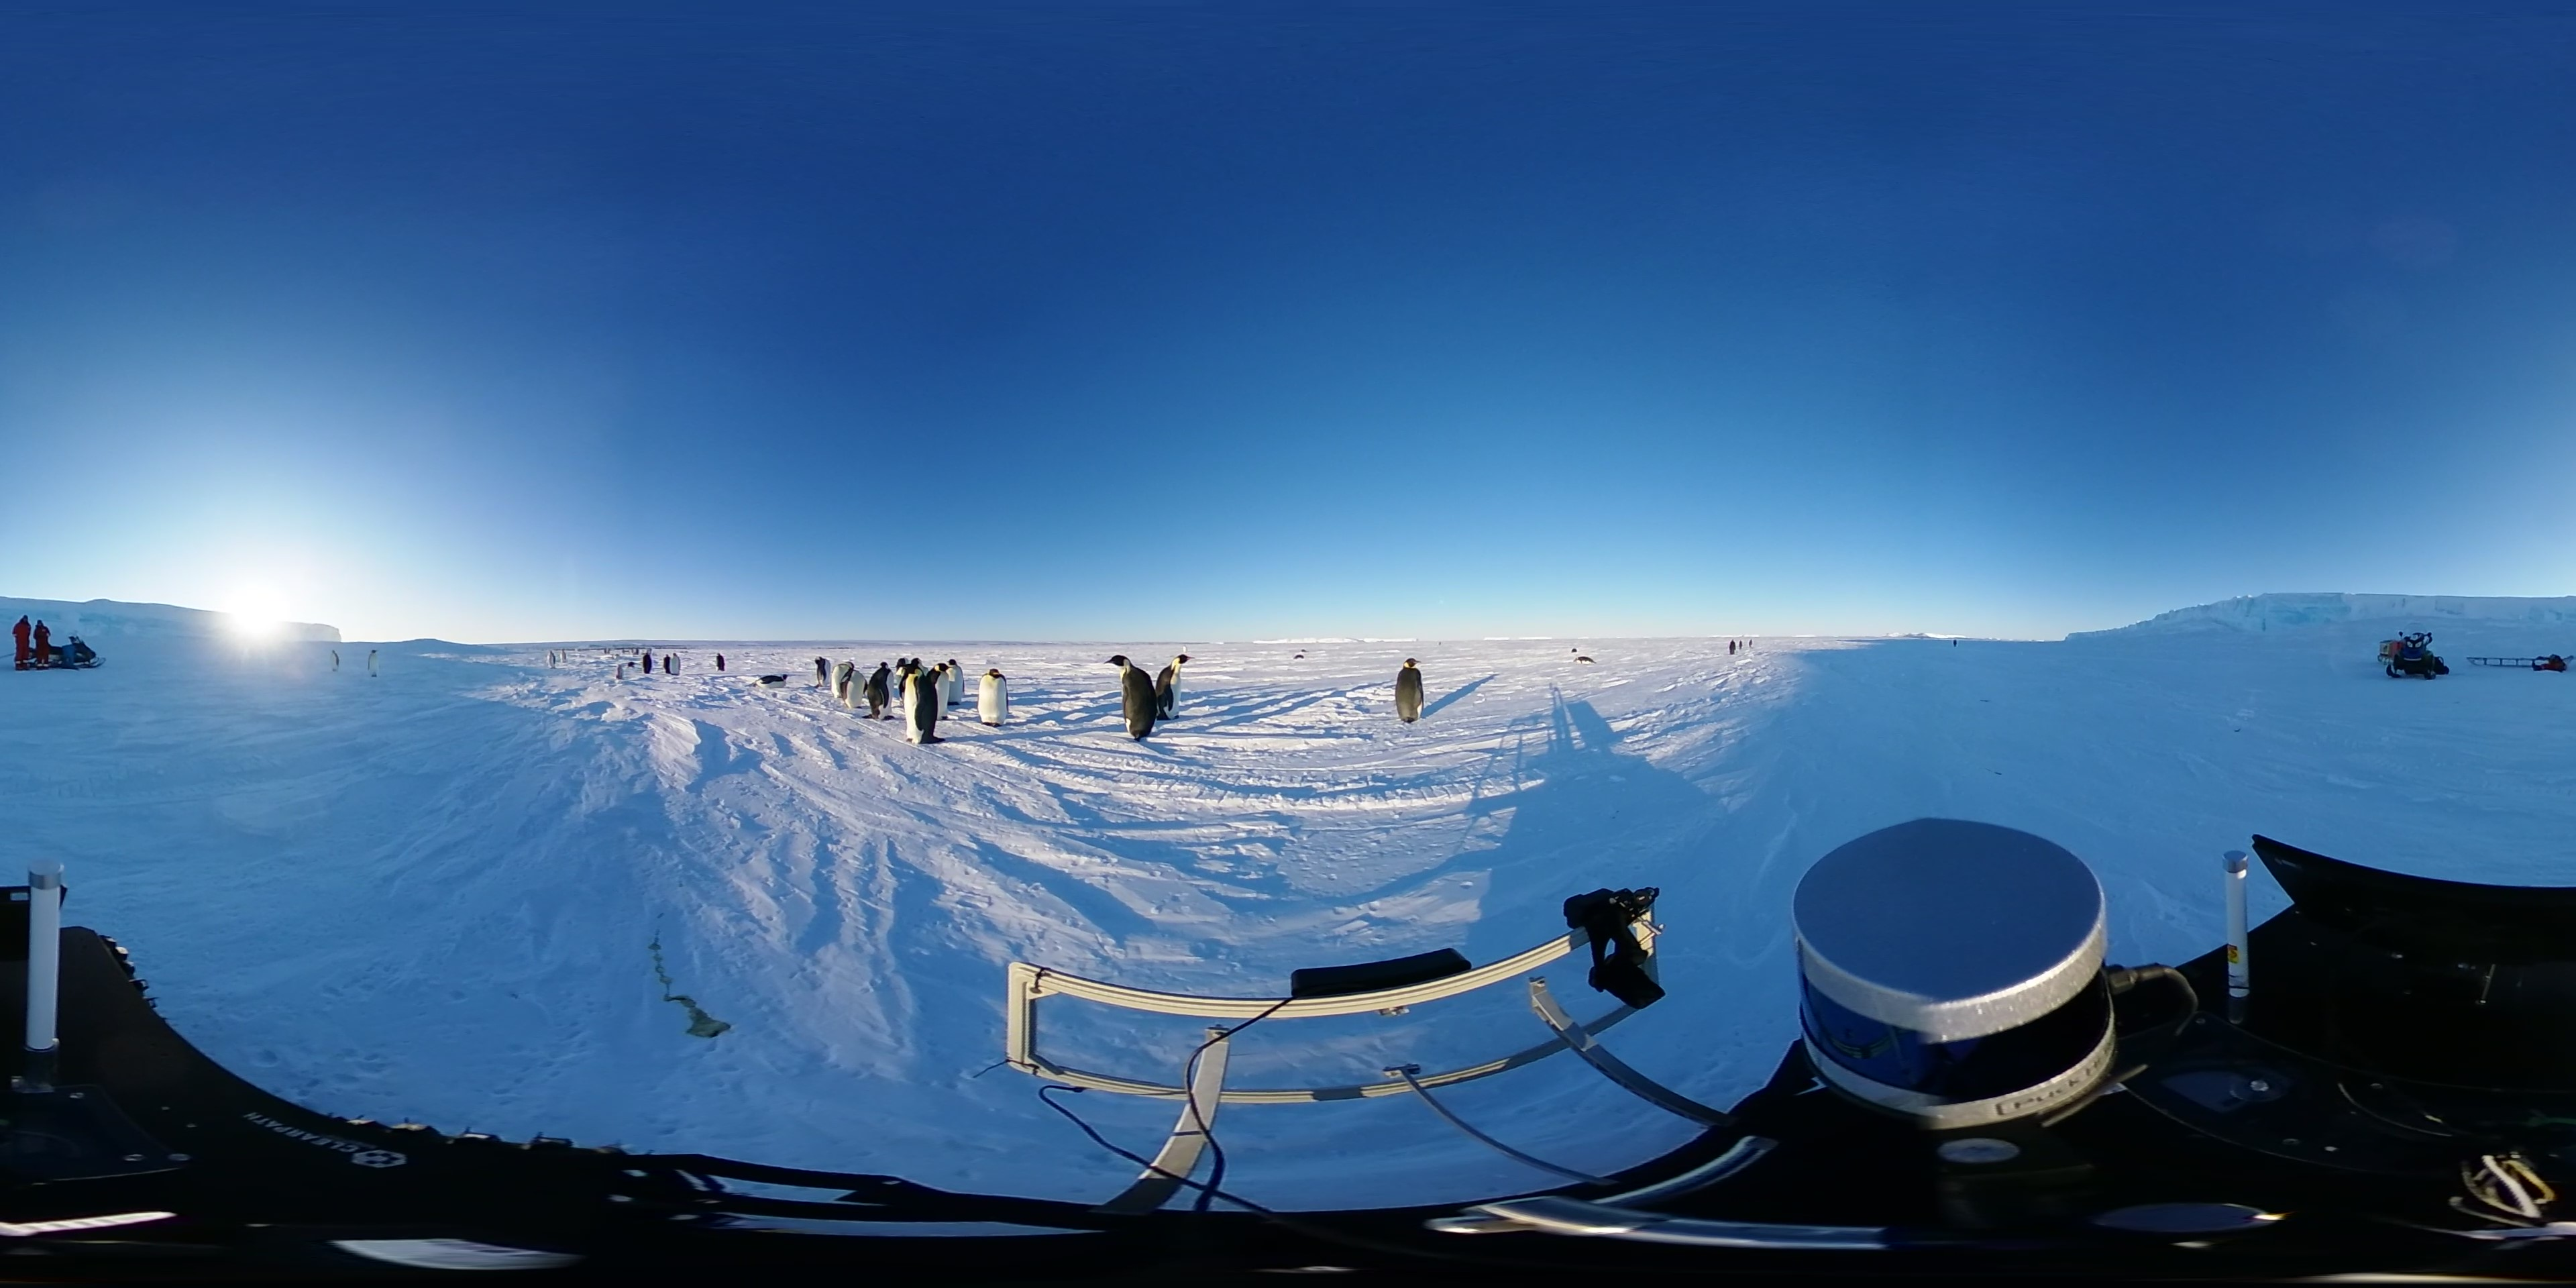adult_standing_penguin: (1101, 652, 1158, 744), (899, 662, 948, 746), (1155, 652, 1194, 721), (976, 667, 1014, 729), (1395, 657, 1429, 724), (862, 660, 895, 724), (366, 647, 381, 680)
adult_toboggan_penguin: (749, 670, 795, 695)
researcher: (11, 613, 33, 674), (2527, 652, 2571, 675), (33, 618, 51, 670)
